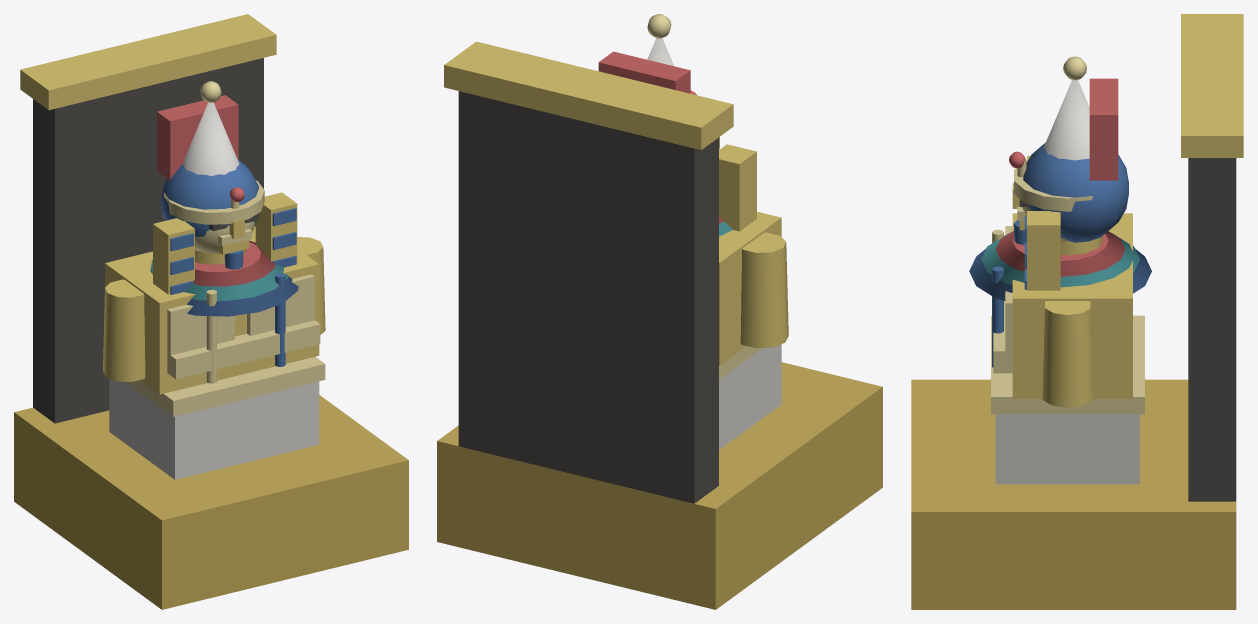
The model's file is ramses_glb.glb.
3 views of the same model, side by side, from view 1: azimuth 30°, elevation 25°; view 2: azimuth 150°, elevation 25°; view 3: azimuth 270°, elevation 25° (orthographic). The views are drawn at different scales.
Parts seen in each view (by area): view 1: RamsesII_Avatar; view 2: RamsesII_Avatar; view 3: RamsesII_Avatar.
Part boxes in pixels (<box>): RamsesII_Avatar: <box>14,14,408,609</box>; RamsesII_Avatar: <box>437,14,882,609</box>; RamsesII_Avatar: <box>911,14,1243,609</box>.
Bounding box in the file's own units: 1.3 × 2.23 × 1.38.
